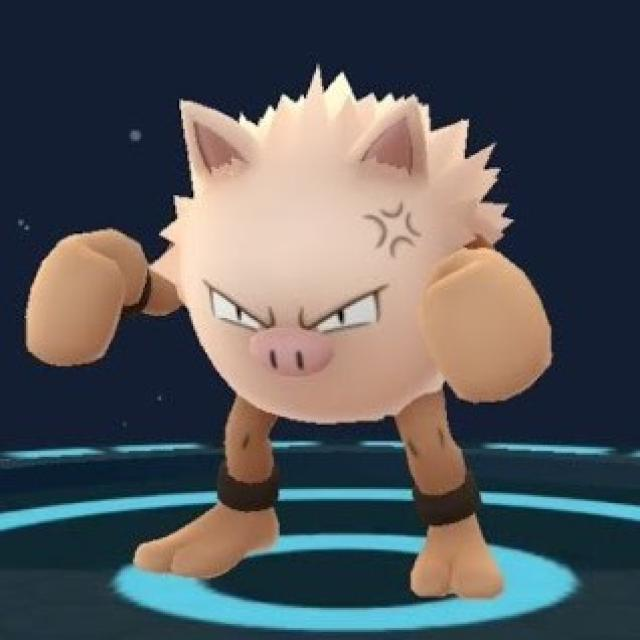Primeape: (130, 80, 521, 592)
